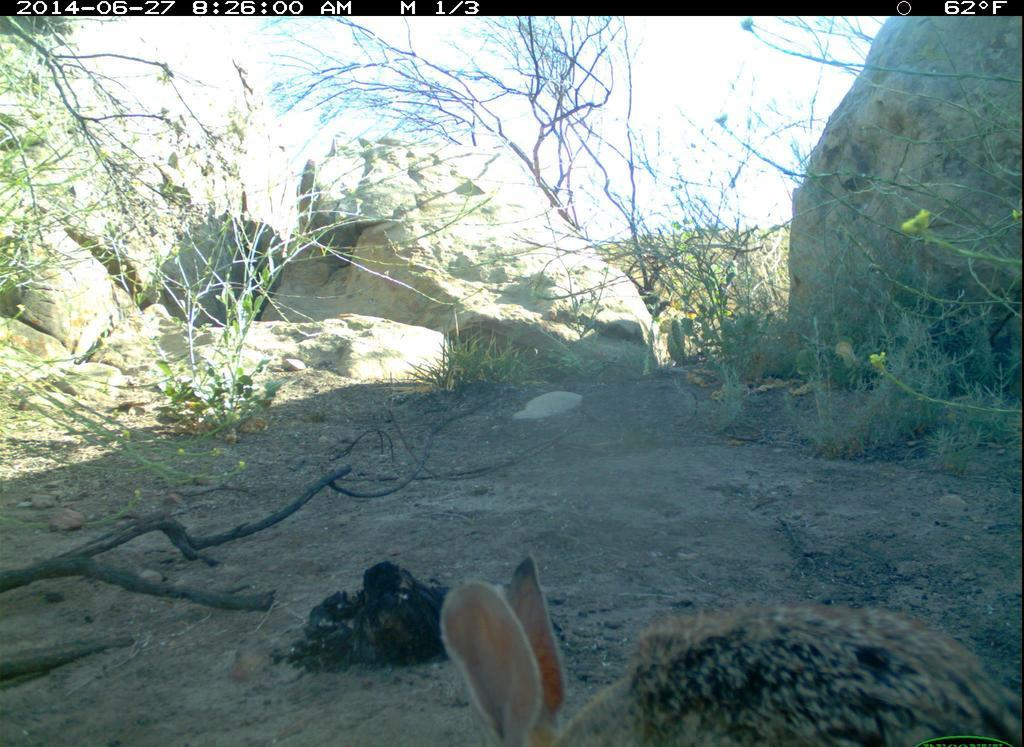rabbit: (434, 552, 1024, 747)
